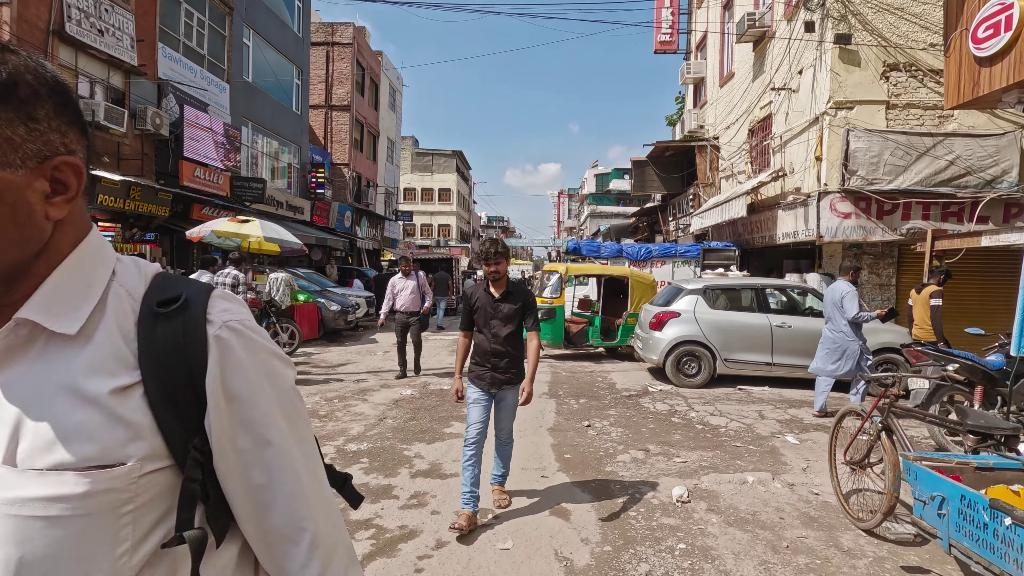garbage: (671, 484, 689, 503)
